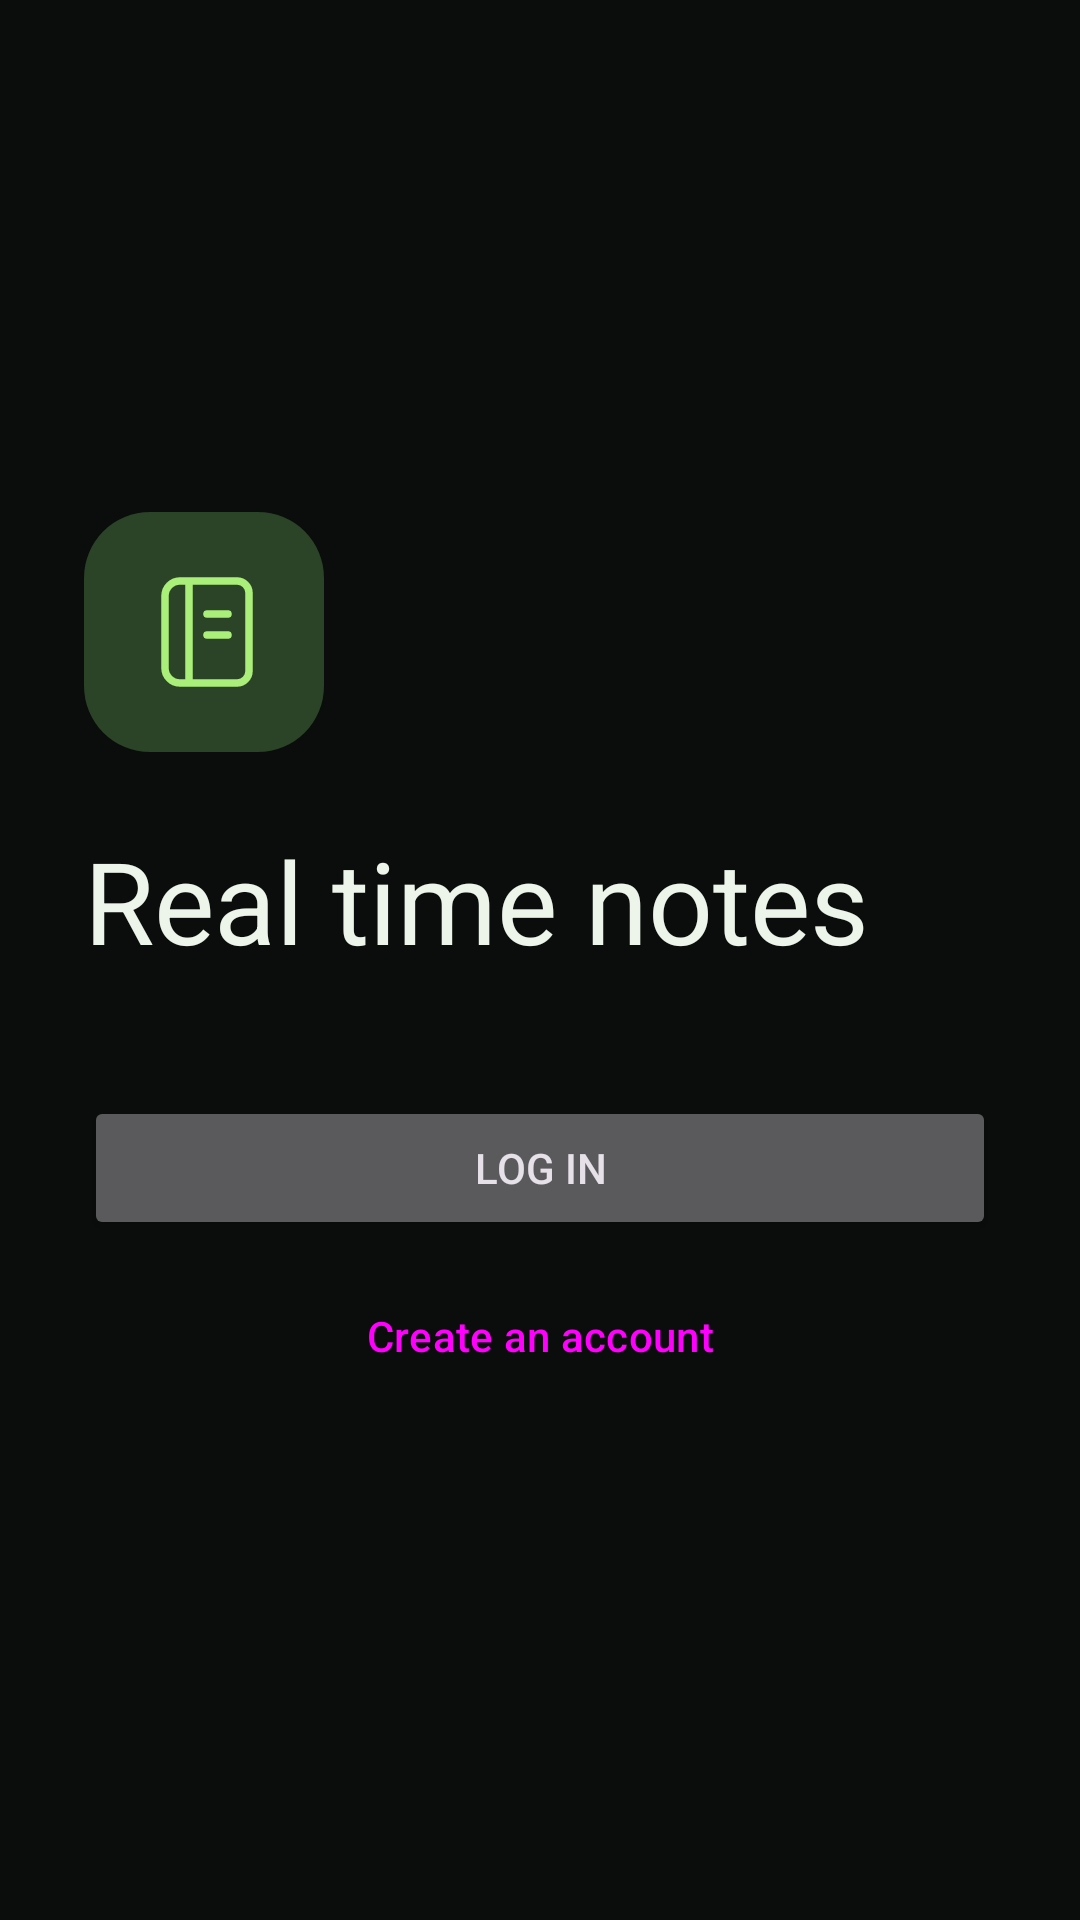

Point at icon controls on the screen. Image size 1080px×1920px, points as point (x, y).
notes mark: point (204, 632)
